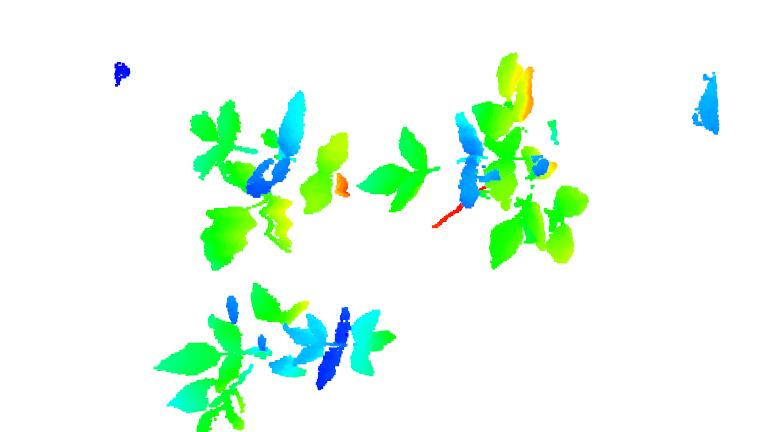mungbean: (358, 50, 590, 271), (151, 280, 398, 432), (187, 89, 355, 270)
